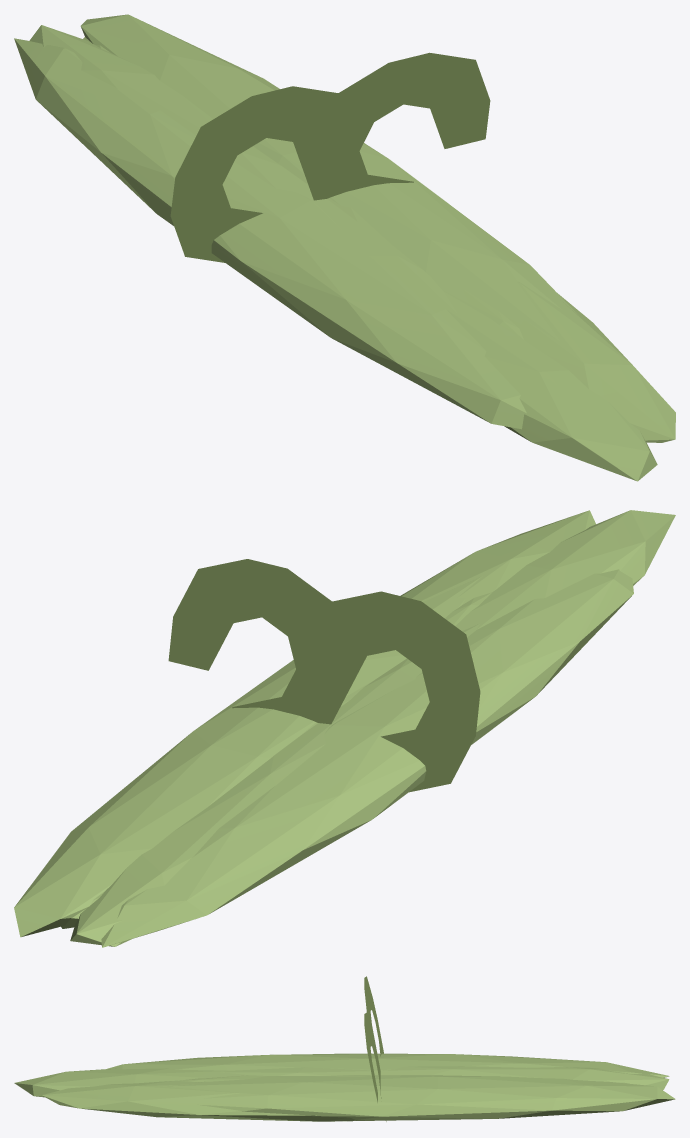
Rendered from pteris-tripartita.glb.
3 renders of one model, top to bottom at view 1: azimuth 30°, elevation 25°; view 2: azimuth 150°, elevation 25°; view 3: azimuth 270°, elevation 25°, orthographic. The views are drawn at different scales.
Visible parts, largest first — view 1: frond3, frond0, fiddle-1, frond2, fiddle1, frond4, frond1, frond6; view 2: frond3, frond0, fiddle-1, fiddle1, frond4, frond2, frond1, frond6; view 3: frond0, frond3, frond1, frond4, frond2, fiddle-1, fiddle1, frond6.
Part boxes in pixels (x1,y1,x2,y2): frond3: (14, 38, 526, 429); frond0: (80, 14, 578, 342); fiddle-1: (170, 86, 350, 262); frond2: (443, 291, 657, 481); fiddle1: (307, 52, 490, 200); frond4: (29, 25, 457, 314); frond1: (509, 281, 675, 442); frond6: (83, 37, 523, 339); frond3: (101, 569, 633, 947); frond0: (14, 576, 481, 937); fiddle-1: (302, 591, 480, 792); fiddle1: (168, 559, 346, 724); frond4: (70, 623, 483, 946); frond2: (455, 510, 675, 630); frond1: (400, 510, 595, 604); frond6: (61, 592, 491, 928); frond0: (163, 1075, 675, 1121); frond3: (106, 1053, 669, 1077); frond1: (42, 1080, 365, 1121); frond4: (220, 1066, 669, 1089); frond2: (14, 1068, 248, 1097); fiddle-1: (364, 976, 383, 1066); fiddle1: (364, 1012, 386, 1121); frond6: (178, 1075, 627, 1083).
Size of the model in its own units: 0.184 by 0.1056 by 0.6184.
